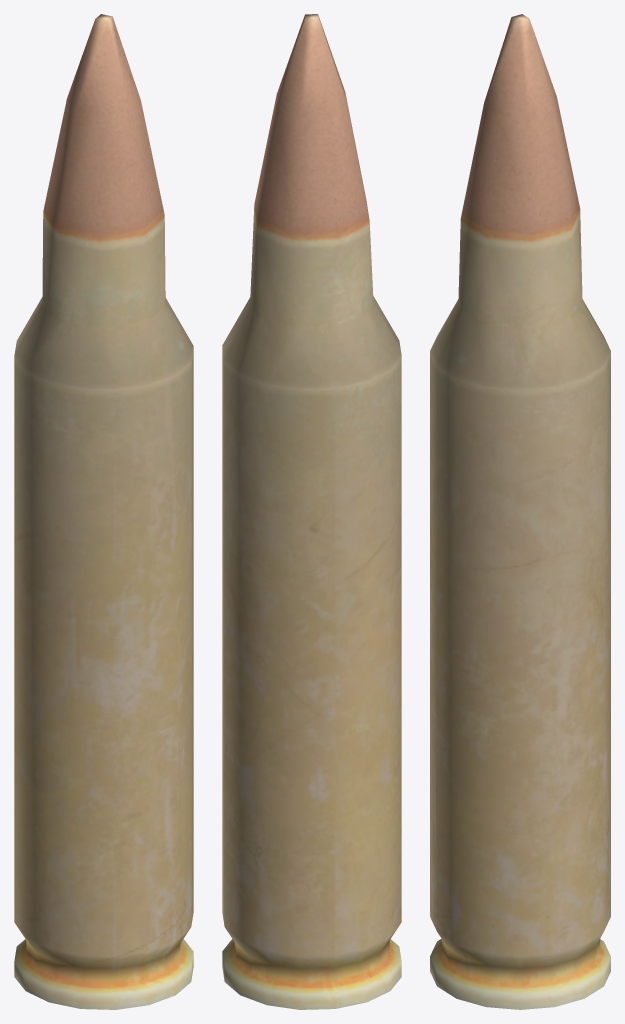
Rendered from SM_Ammo_02a.glb.
The picture shows the model from 3 angles, left to right: view 1: azimuth 30°, elevation 25°; view 2: azimuth 150°, elevation 25°; view 3: azimuth 270°, elevation 25°; orthographic projection.
Parts seen in each view (by area): view 1: SM_Ammo_02a; view 2: SM_Ammo_02a; view 3: SM_Ammo_02a.
Part boxes in pixels (left/top/right/bottom): SM_Ammo_02a: left=14, top=14, right=193, bottom=1009; SM_Ammo_02a: left=222, top=14, right=401, bottom=1009; SM_Ammo_02a: left=430, top=14, right=610, bottom=1009.
Bounding box in the file's own units: 0.0103 × 0.0599 × 0.0103.
1 material, 1 textured.
